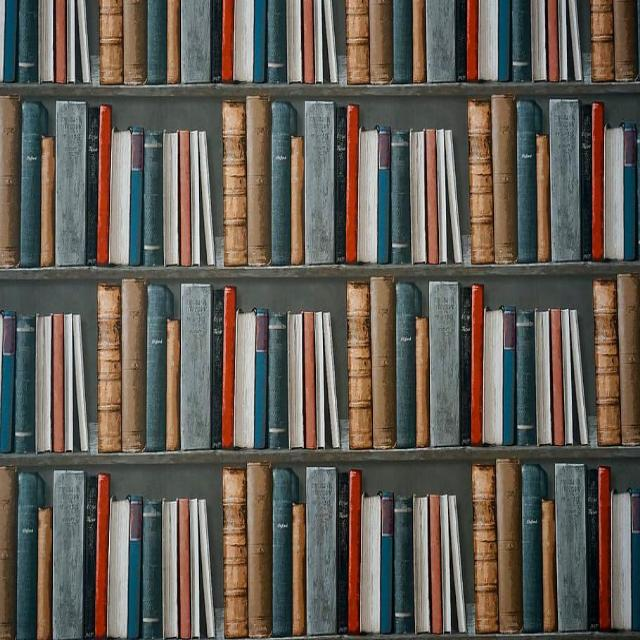book: (56, 473, 80, 640), (372, 279, 395, 447), (433, 286, 457, 438), (185, 292, 208, 450), (307, 104, 330, 260), (596, 288, 619, 443), (308, 108, 331, 260), (59, 102, 79, 258), (556, 107, 576, 256), (274, 472, 290, 636), (226, 475, 242, 638), (123, 293, 140, 445), (350, 296, 367, 447), (250, 106, 266, 262), (226, 109, 242, 264), (470, 108, 486, 260), (497, 105, 512, 257), (150, 290, 163, 447), (102, 293, 115, 447), (517, 318, 532, 438), (275, 107, 286, 260), (484, 314, 496, 441), (520, 108, 530, 260), (20, 320, 31, 456), (460, 292, 468, 438), (538, 314, 547, 441), (473, 291, 480, 441), (505, 317, 513, 442), (292, 142, 300, 260), (538, 143, 546, 260), (350, 108, 356, 260)
